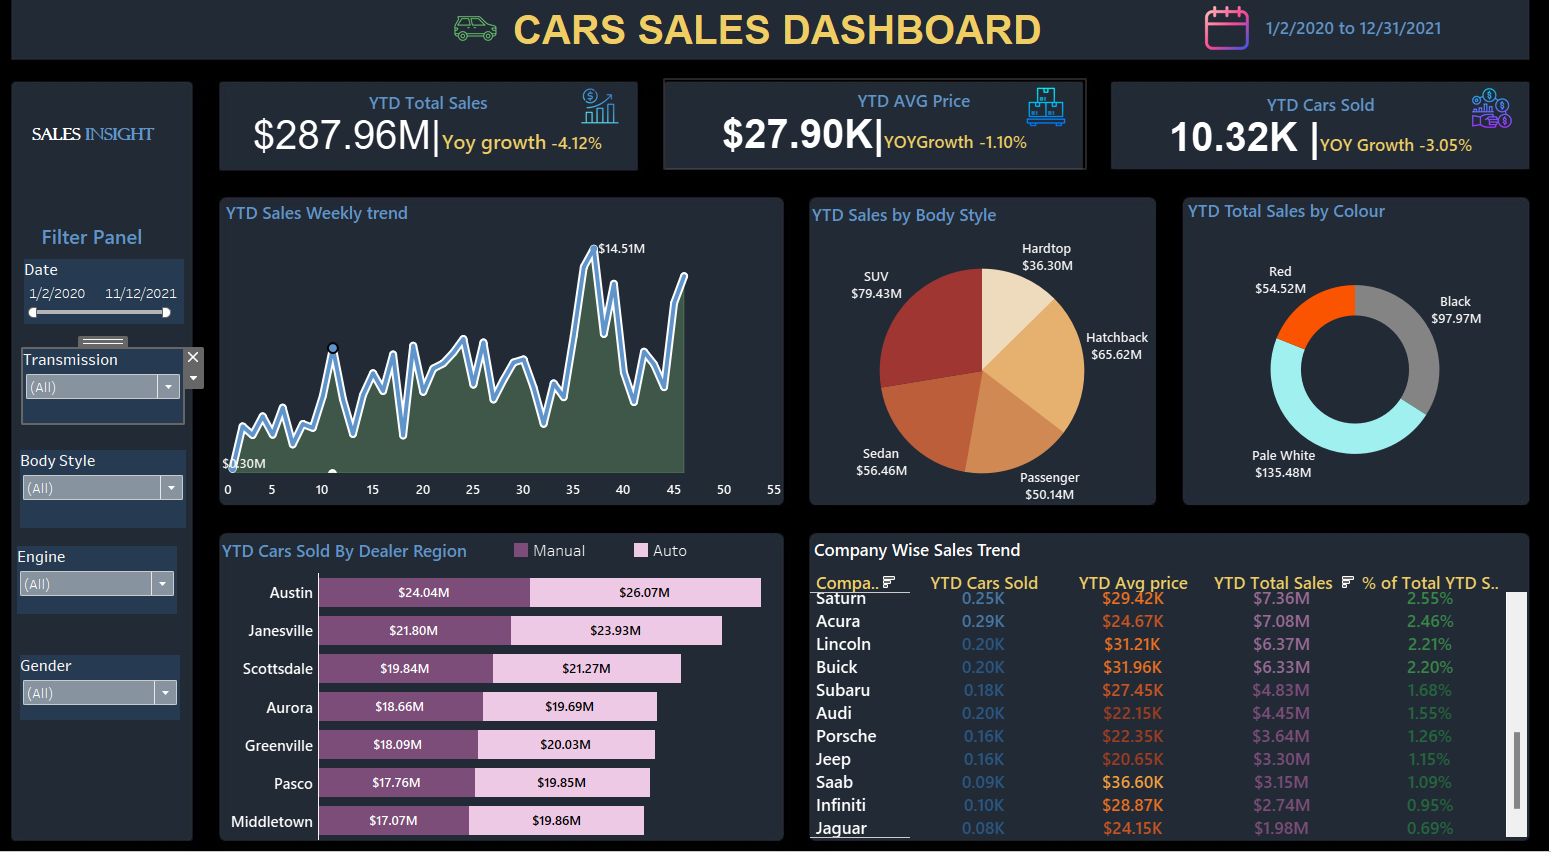

What the dashboard file says about the page in this screenshot:
{"tool":"tableau","page":{"name":"Dashboard 1","canvas":[1600,900],"ordinal":0},"visuals":[{"type":"image","param":"C:/Users/DELL/Downloads/Car Sales Background.jpg","box":[8,8,1584,884]},{"type":"image","param":"C:/Users/DELL/Downloads/Car Icon.png","box":[447,33,115,50]},{"type":"image","param":"C:/Users/DELL/Downloads/calendar.png","box":[1226,33,60,49]},{"type":"worksheet","title":"Date Range","mark":"Automatic","box":[1217,34,333,48]},{"type":"text","box":[477,35,659,50]},{"type":"worksheet","title":"YTD Total Sales","mark":"Automatic","box":[247,110,421,90]},{"type":"worksheet","title":"YTD Average Price","mark":"Automatic","box":[694,110,420,88]},{"type":"worksheet","title":"YTD Cars sold","mark":"Automatic","box":[1141,113,418,88]},{"type":"image","param":"C:/Users/DELL/Downloads/Sales Icon.png","box":[599,115,60,41]},{"type":"image","param":"C:/Users/DELL/Downloads/Avg Price Icon.png","box":[1045,116,60,41]},{"type":"image","param":"C:/Users/DELL/Downloads/Cars Sold Icon.png","box":[1491,117,60,41]},{"type":"text","box":[57,149,130,30]},{"type":"worksheet","title":"YTD Total Sales by Colour ","mark":"Pie","rows":["Calculation_991917843095216137","Calculation_991917843095269387"],"box":[1213,225,342,311]},{"type":"worksheet","title":"YTD Sales Weekly trend","mark":"Area","rows":["Calculation_707346641290948608","Calculation_707346641290948608"],"cols":["Date"],"box":[251,227,562,306]},{"type":"worksheet","title":"YTD Sales by Body Style","mark":"Pie","box":[837,229,348,306]},{"type":"text","box":[56,251,130,30]},{"type":"filter","title":"YTD Sales Weekly trend","param":"[federated.0wv6upt1kh6ngb14ayotj11km8hb].[none:Date:qk]","box":[53,289,160,65]},{"type":"filter","title":"YTD Sales Weekly trend","param":"[federated.0wv6upt1kh6ngb14ayotj11km8hb].[none:Transmission:nk]","box":[52,379,160,74]},{"type":"filter","title":"YTD Sales Weekly trend","param":"[federated.0wv6upt1kh6ngb14ayotj11km8hb].[none:Body Style:nk]","box":[49,480,166,78]},{"type":"worksheet","title":"Company Wise Sales Trend","mark":"Automatic","rows":["Company"],"box":[839,564,717,304]},{"type":"worksheet","title":"YTD Cars Sold By Dealer Region","mark":"Automatic","rows":["Dealer_Region"],"cols":["Calculation_707346641290948608"],"box":[247,565,565,305]},{"type":"legend","title":"YTD Cars Sold By Dealer Region","param":"[federated.0wv6upt1kh6ngb14ayotj11km8hb].[none:Transmission:nk]","box":[540,570,250,27]},{"type":"filter","title":"YTD Sales Weekly trend","param":"[federated.0wv6upt1kh6ngb14ayotj11km8hb].[none:Engine:nk]","box":[46,576,160,68]},{"type":"filter","title":"YTD Sales Weekly trend","param":"[federated.0wv6upt1kh6ngb14ayotj11km8hb].[none:Gender:nk]","box":[49,685,160,65]}]}

Visuals, with their boxes in screenshot pixels (x1, y1, x2, y2), scaled from the page's 1600x900 canvas onto the 1551x852 screenshot:
image: [8, 8, 1543, 844]
image: [433, 31, 545, 79]
image: [1188, 31, 1247, 78]
"Date Range" worksheet: [1180, 32, 1503, 78]
text: [462, 33, 1101, 80]
"YTD Total Sales" worksheet: [239, 104, 648, 189]
"YTD Average Price" worksheet: [673, 104, 1080, 187]
"YTD Cars sold" worksheet: [1106, 107, 1511, 190]
image: [581, 109, 639, 148]
image: [1013, 110, 1071, 149]
image: [1445, 111, 1504, 150]
text: [55, 141, 181, 169]
"YTD Total Sales by Colour " worksheet (Pie marks): [1176, 213, 1507, 507]
"YTD Sales Weekly trend" worksheet (Area marks): [243, 215, 788, 505]
"YTD Sales by Body Style" worksheet (Pie marks): [811, 217, 1149, 506]
text: [54, 238, 180, 266]
"YTD Sales Weekly trend" filter: [51, 274, 206, 335]
"YTD Sales Weekly trend" filter: [50, 359, 206, 429]
"YTD Sales Weekly trend" filter: [47, 454, 208, 528]
"Company Wise Sales Trend" worksheet: [813, 534, 1508, 822]
"YTD Cars Sold By Dealer Region" worksheet: [239, 535, 787, 824]
"YTD Cars Sold By Dealer Region" legend: [523, 540, 766, 565]
"YTD Sales Weekly trend" filter: [45, 545, 200, 610]
"YTD Sales Weekly trend" filter: [47, 648, 203, 710]
